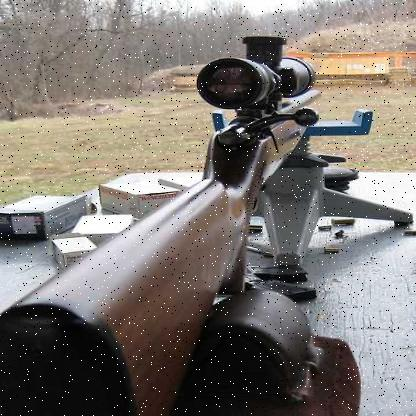rifle: (0, 28, 347, 415)
